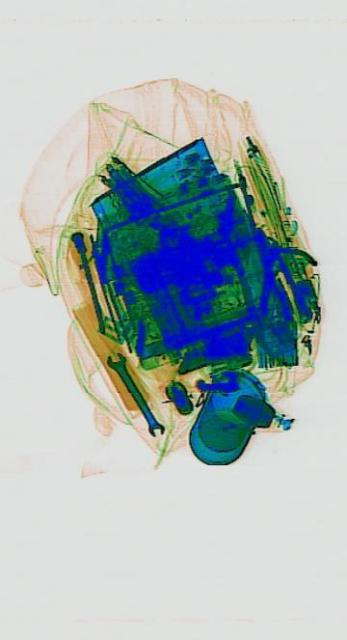Wrench: (103, 340, 164, 446)
